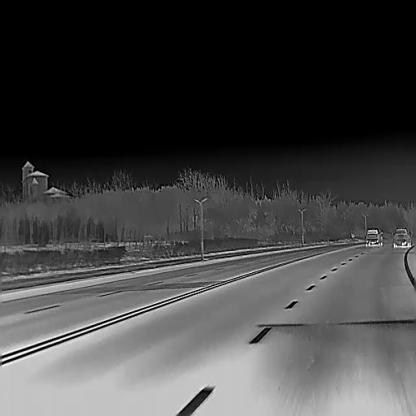car: (392, 226, 411, 247), (365, 227, 383, 245)
